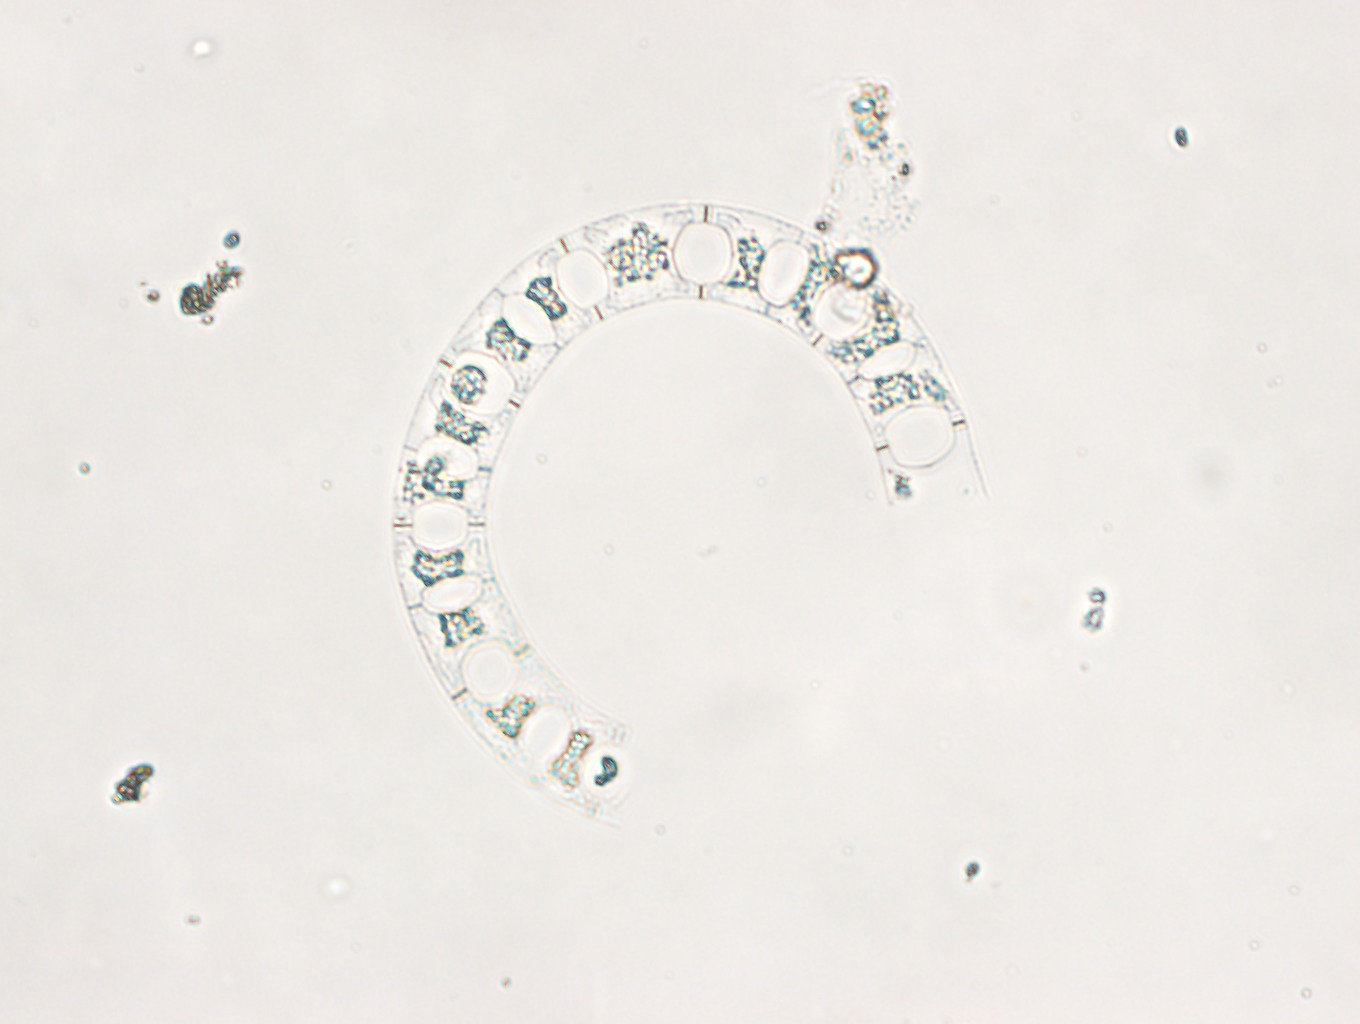eucampia: (391, 199, 988, 825)
